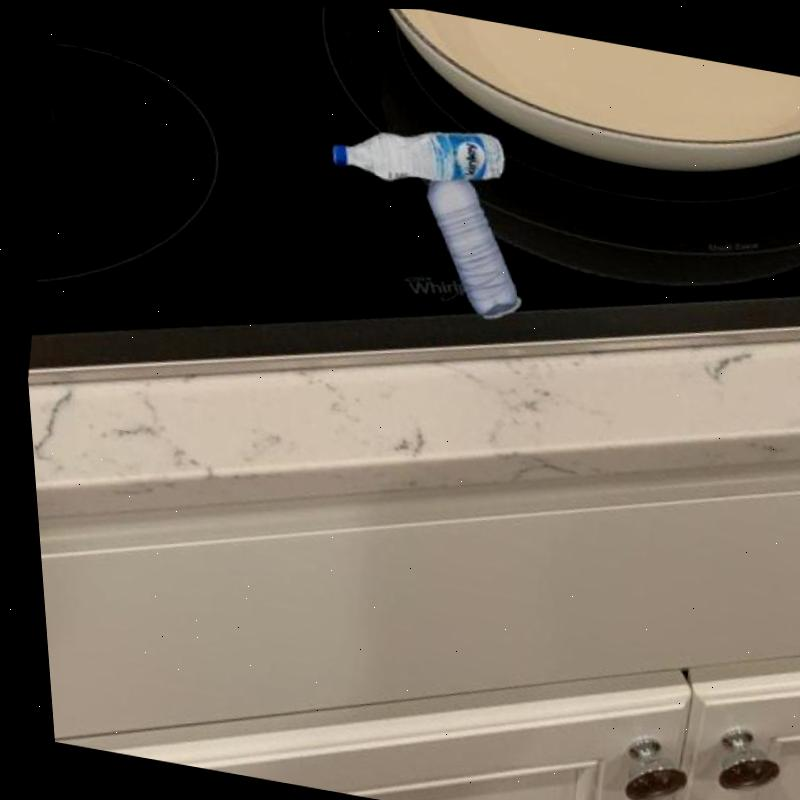botella: (404, 171, 532, 319), (323, 105, 509, 200)
